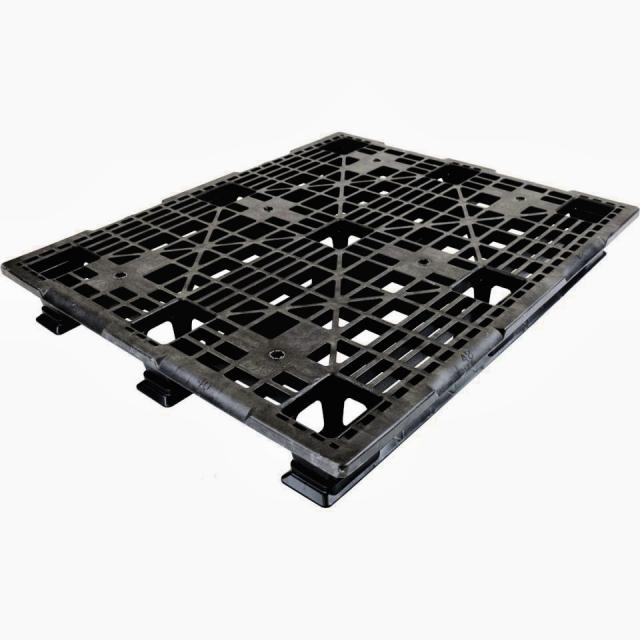non-igps: (0, 118, 640, 514)
